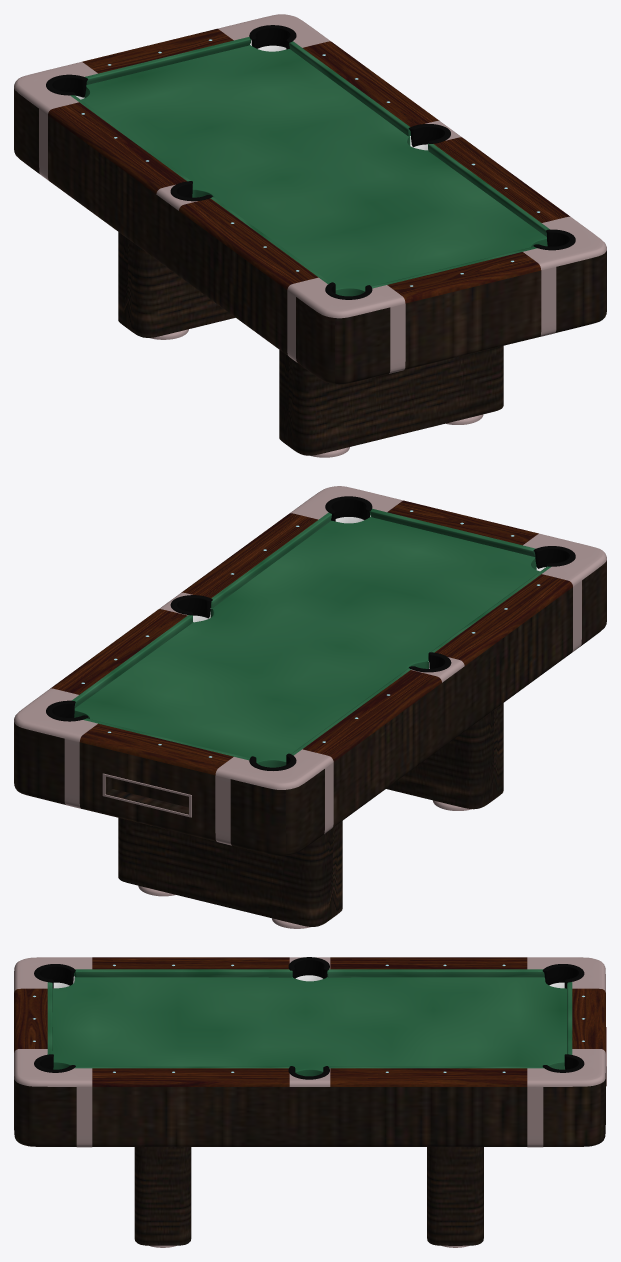
The model's file is table.fbx.
3 views of the same model, one above another, from view 1: azimuth 30°, elevation 25°; view 2: azimuth 150°, elevation 25°; view 3: azimuth 270°, elevation 25° (orthographic). The views are drawn at different scales.
Parts seen in each view (by area): view 1: green, polySurface98, polySurface97, pCube178, pCube178_pool_wood_base_text_0.001, polySurface78, polySurface87, polySurface81, polySurface95, polySurface84, polySurface93, polySurface73 (+3 smaller); view 2: green, polySurface98, polySurface97, pCube178_pool_wood_base_text_0.001, pCube178, polySurface81, polySurface84, polySurface78, polySurface94, polySurface87, polySurface73, polySurface93 (+4 smaller); view 3: green, polySurface98, polySurface97, pCube178, pCube178_pool_wood_base_text_0.001, polySurface84, polySurface87, polySurface91, polySurface92, polySurface81, polySurface78, polySurface23 (+8 smaller).
Boxes of the visible parts, box(x1,y1,x2,y2) form: green: box(81, 45, 547, 296); polySurface98: box(14, 88, 606, 384); polySurface97: box(48, 28, 570, 303); pCube178: box(279, 346, 503, 455); pCube178_pool_wood_base_text_0.001: box(118, 232, 235, 337); polySurface78: box(287, 277, 405, 373); polySurface87: box(523, 216, 606, 336); polySurface81: box(14, 62, 97, 180); polySurface95: box(85, 36, 251, 84); polySurface84: box(218, 14, 330, 47); polySurface93: box(289, 41, 410, 136); polySurface73: box(428, 143, 549, 236); green: box(74, 517, 539, 767); polySurface98: box(14, 560, 606, 856); polySurface97: box(50, 500, 572, 775); pCube178_pool_wood_base_text_0.001: box(118, 818, 342, 926); pCube178: box(386, 703, 503, 809); polySurface81: box(215, 749, 333, 845); polySurface84: box(14, 688, 97, 808); polySurface78: box(523, 533, 606, 652); polySurface94: box(369, 508, 535, 556); polySurface87: box(290, 486, 403, 519); polySurface73: box(211, 512, 331, 607); polySurface93: box(72, 615, 192, 707); green: box(52, 977, 566, 1076); polySurface98: box(14, 1073, 605, 1146); polySurface97: box(14, 957, 605, 1086); pCube178: box(134, 1147, 191, 1245); pCube178_pool_wood_base_text_0.001: box(427, 1147, 483, 1245); polySurface84: box(527, 1049, 605, 1147); polySurface87: box(14, 1049, 92, 1147); polySurface91: box(74, 969, 292, 977); polySurface92: box(327, 969, 544, 977); polySurface81: box(527, 957, 605, 992); polySurface78: box(14, 957, 92, 992); polySurface23: box(288, 957, 329, 978).
Bounding box in the file's own units: 366 × 257 × 725.
